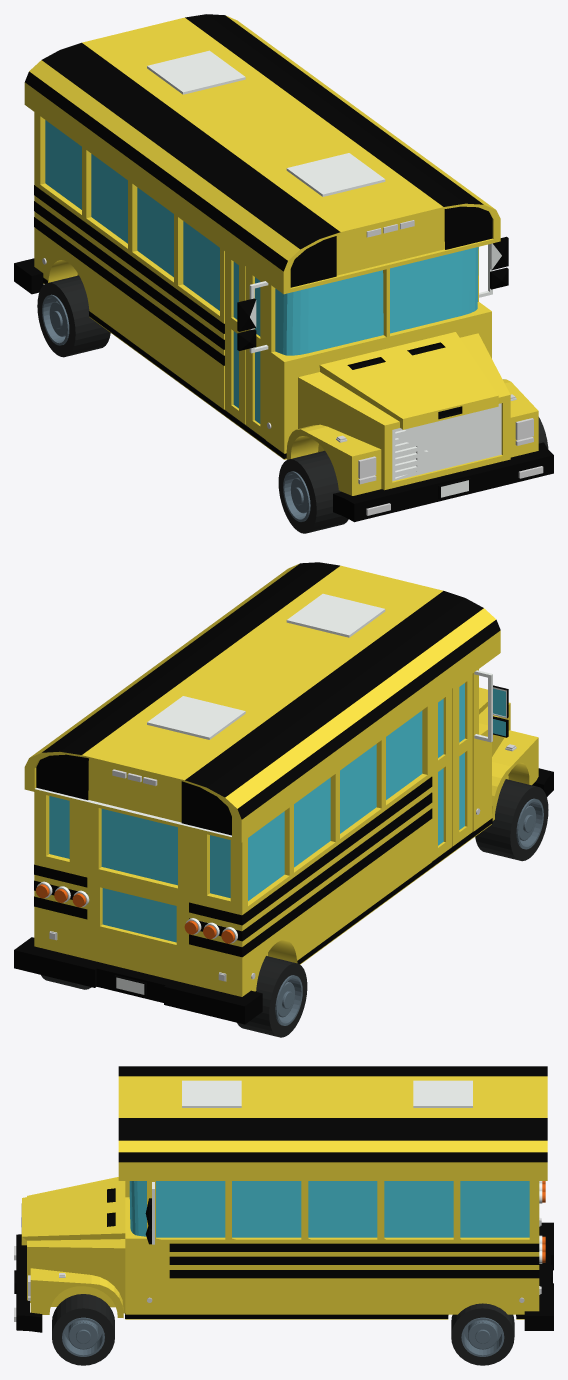
Rendered from SchoolBusMesh.fbx.
3 renders of one model, top to bottom at view 1: azimuth 30°, elevation 25°; view 2: azimuth 150°, elevation 25°; view 3: azimuth 270°, elevation 25°, orthographic. The views are drawn at different scales.
Visible parts, largest first — view 1: body, wheelFR, wheelRR; view 2: body, wheelFR, wheelRR; view 3: body, wheelFL, wheelRL.
Boxes of the visible parts, left/top/right/bottom form: body: left=14, top=14, right=553, bottom=522; wheelFR: left=278, top=450, right=348, bottom=533; wheelRR: left=37, top=275, right=110, bottom=357; body: left=14, top=562, right=553, bottom=1024; wheelFR: left=475, top=779, right=548, bottom=861; wheelRR: left=237, top=956, right=307, bottom=1037; body: left=14, top=1066, right=553, bottom=1332; wheelFL: left=52, top=1294, right=114, bottom=1365; wheelRL: left=451, top=1303, right=514, bottom=1365.
Bounding box in the file's own units: 326 × 315 × 682.
